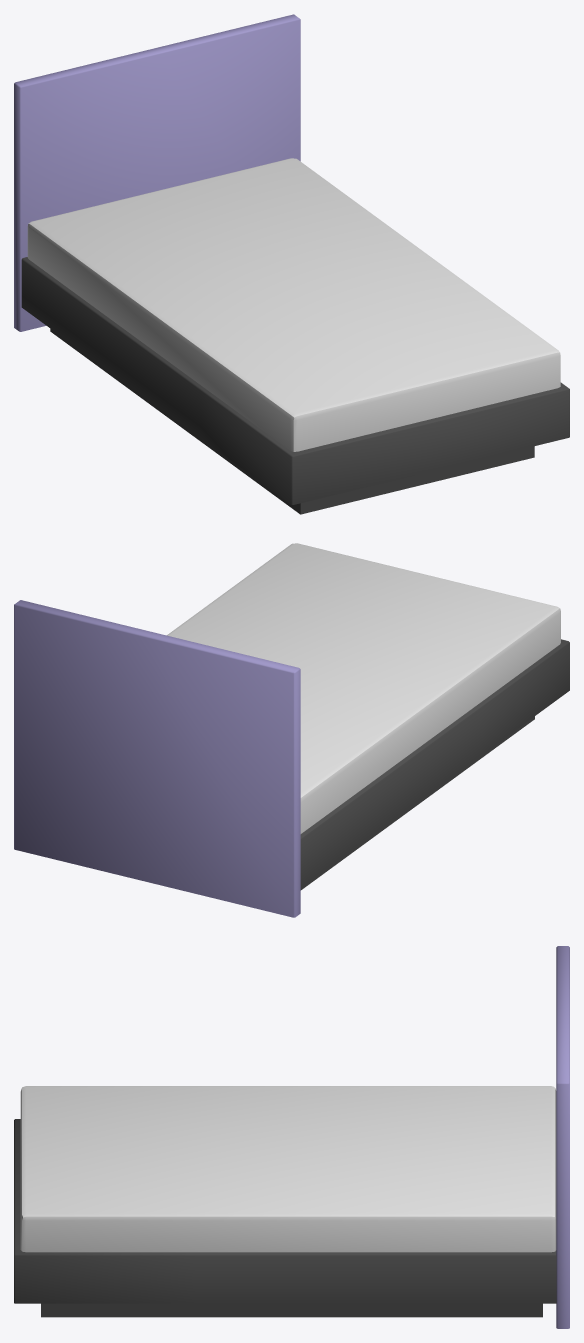
The model's file is MZCBD04A.FBX.
3 renders of one model, top to bottom at view 1: azimuth 30°, elevation 25°; view 2: azimuth 150°, elevation 25°; view 3: azimuth 270°, elevation 25°, orthographic.
Parts seen in each view (by area): view 1: MZCBD04A; view 2: MZCBD04A; view 3: MZCBD04A.
Part boxes in pixels (x1,y1,x2,y2): MZCBD04A: (14, 14, 569, 514); MZCBD04A: (14, 543, 569, 917); MZCBD04A: (14, 946, 569, 1328).
Size of the model in its own units: 120 by 205 by 100.
